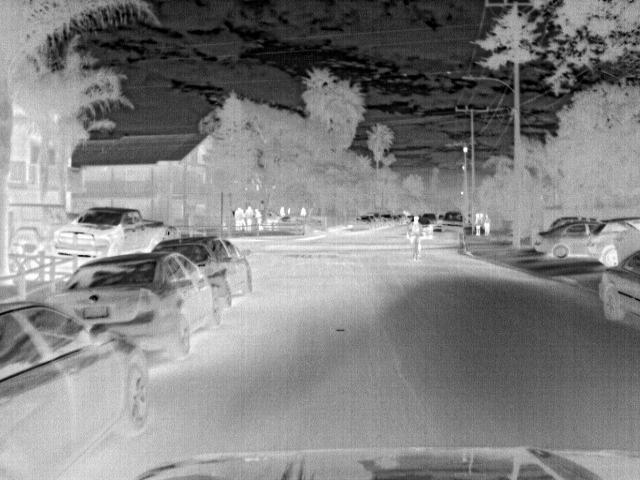car: (1, 298, 151, 479), (50, 251, 225, 360), (54, 204, 172, 262), (153, 235, 255, 302), (597, 254, 639, 326), (590, 216, 638, 272), (534, 223, 600, 261), (442, 209, 464, 232), (418, 213, 439, 230), (419, 219, 433, 240), (353, 216, 372, 230), (380, 213, 395, 225)
person: (251, 206, 264, 232), (480, 210, 492, 238), (233, 204, 245, 230)
